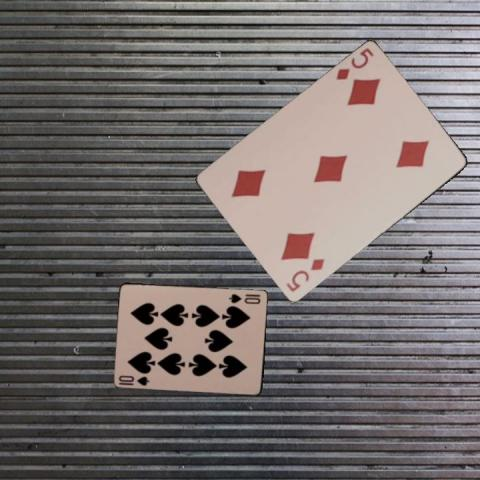10s: (116, 372, 151, 387), (227, 291, 262, 305)
5d: (283, 255, 326, 294), (333, 45, 375, 82)
